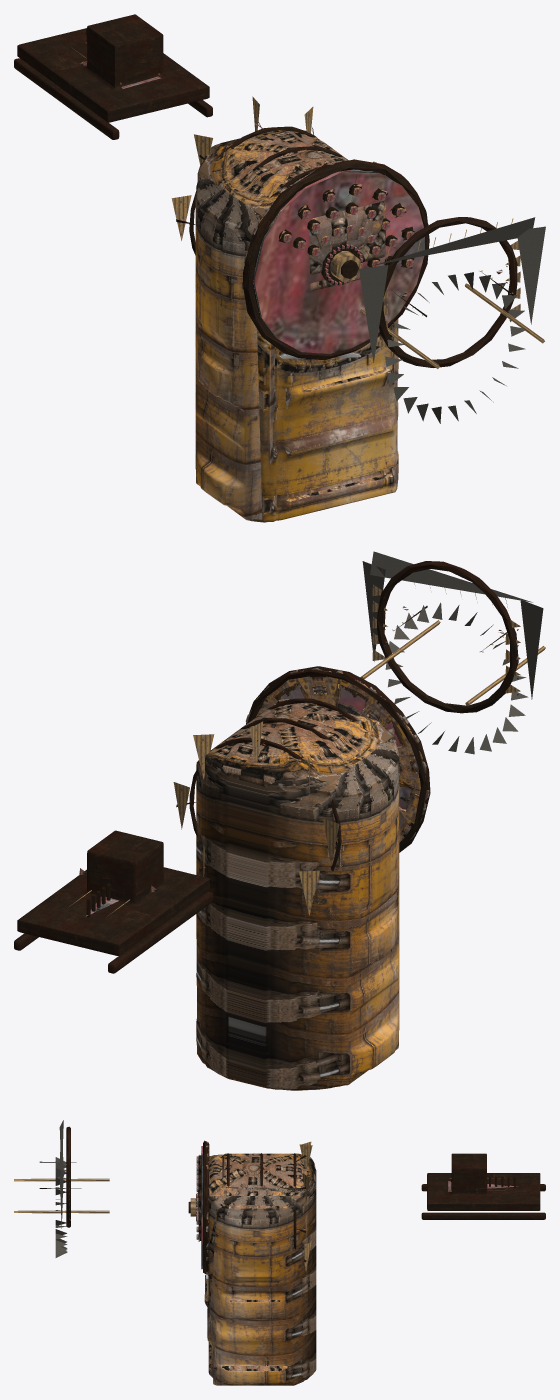
Rendered from borer.glb.
3 views of the same model, one above another, from view 1: azimuth 30°, elevation 25°; view 2: azimuth 150°, elevation 25°; view 3: azimuth 270°, elevation 25° (orthographic). The views are drawn at different scales.
Parts seen in each view (by area): view 1: Shield body, Plain dark cutter backing disc, Gantry solid deck and rails, Deep rolled cutting rim, Portal welded steel lip, Portal left abutment, Portal crown, Portal right abutment, Shield welded hoop -21.0; view 2: Shield body, Gantry solid deck and rails, Cutter head photo slab, Portal welded steel lip, Deep rolled cutting rim, Portal crown, Portal left abutment, Shield welded hoop -21.0, Plain dark cutter backing disc, Portal right abutment; view 3: Shield body, Gantry solid deck and rails, Deep rolled cutting rim, Portal welded steel lip.
Part boxes in pixels (x1,y1,x2,y2): Shield body: [195, 130, 398, 522]; Plain dark cutter backing disc: [252, 169, 424, 353]; Gantry solid deck and rails: [14, 14, 212, 139]; Deep rolled cutting rim: [243, 159, 429, 360]; Portal welded steel lip: [379, 217, 517, 367]; Portal left abutment: [359, 265, 388, 362]; Portal crown: [373, 217, 535, 265]; Portal right abutment: [517, 226, 545, 324]; Shield welded hoop -21.0: [189, 126, 316, 255]; Shield body: [196, 699, 399, 1090]; Gantry solid deck and rails: [14, 830, 213, 973]; Cutter head photo slab: [245, 668, 429, 842]; Portal welded steel lip: [377, 561, 518, 713]; Deep rolled cutting rim: [246, 666, 430, 852]; Portal crown: [370, 551, 532, 602]; Portal left abutment: [520, 600, 543, 699]; Shield welded hoop -21.0: [189, 737, 341, 871]; Plain dark cutter backing disc: [280, 684, 414, 809]; Portal right abutment: [362, 561, 385, 661]; Shield body: [198, 1153, 316, 1385]; Gantry solid deck and rails: [421, 1153, 545, 1219]; Deep rolled cutting rim: [202, 1140, 209, 1274]; Portal welded steel lip: [66, 1126, 70, 1227].
Bounding box in the file's own units: 12.07 × 23.21 × 47.9.
Materials: 9 (9 with a texture image).
